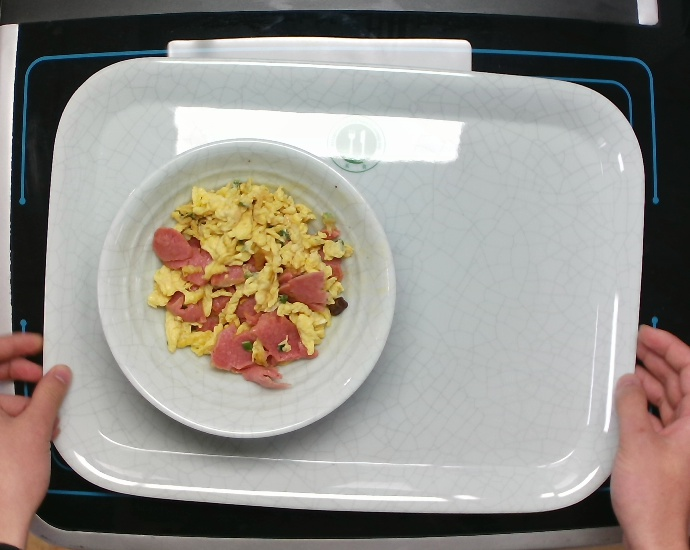JYsf-Xiao_Tang_Wan: (97, 134, 395, 439)
